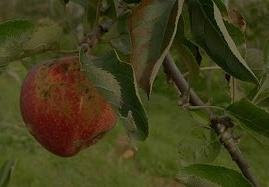rotten apple: (14, 52, 121, 158)
